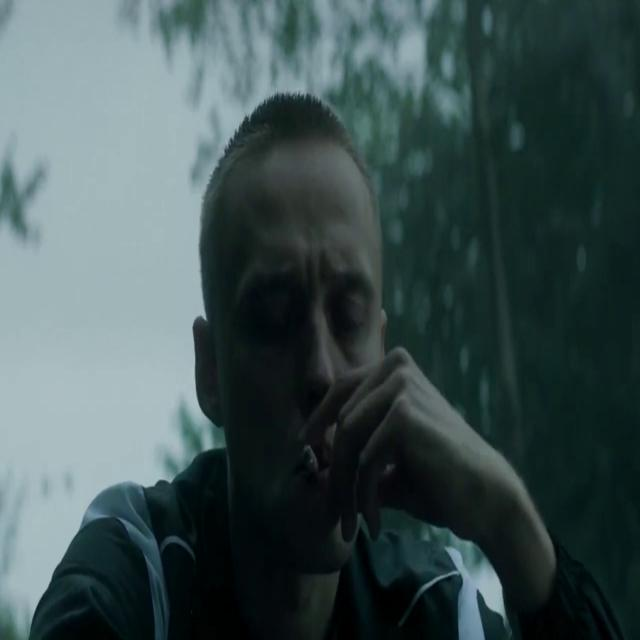Smooking: (294, 434, 329, 478)
